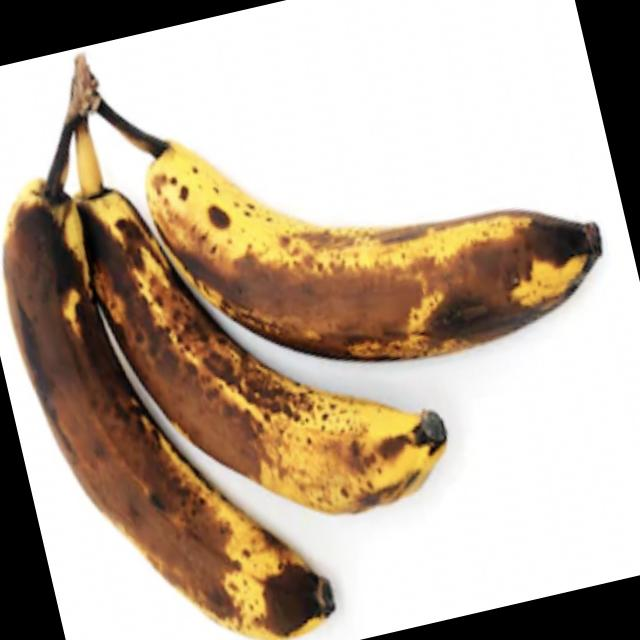rotten-banana: (66, 67, 516, 557), (109, 0, 630, 411), (0, 53, 347, 640)
